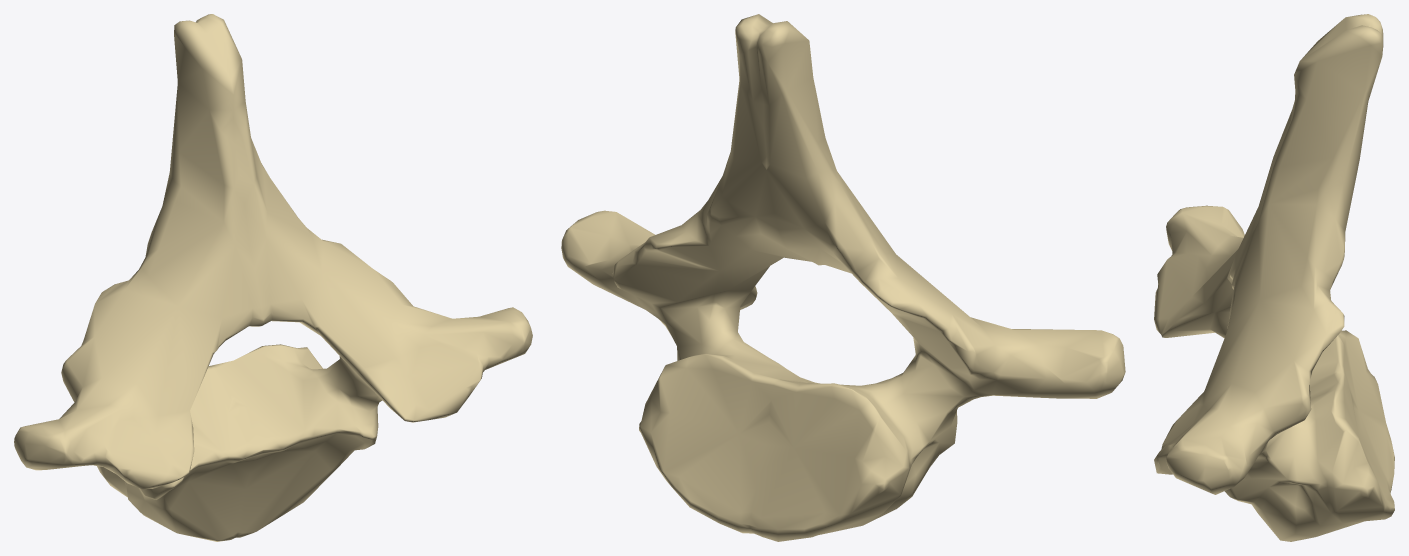
The picture shows the model from 3 angles, left to right: view 1: azimuth 30°, elevation 25°; view 2: azimuth 150°, elevation 25°; view 3: azimuth 270°, elevation 25°; orthographic projection. The views are drawn at different scales.
Parts seen in each view (by area): view 1: 第一胸椎; view 2: 第一胸椎; view 3: 第一胸椎.
Boxes of the visible parts, <box> form: 第一胸椎: <box>14,14,532,541</box>; 第一胸椎: <box>561,14,1125,541</box>; 第一胸椎: <box>1154,14,1394,541</box>.
Size of the model in its own units: 0.1145 by 0.1063 by 0.0453.
